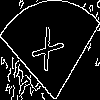X: (25, 25, 65, 82)
